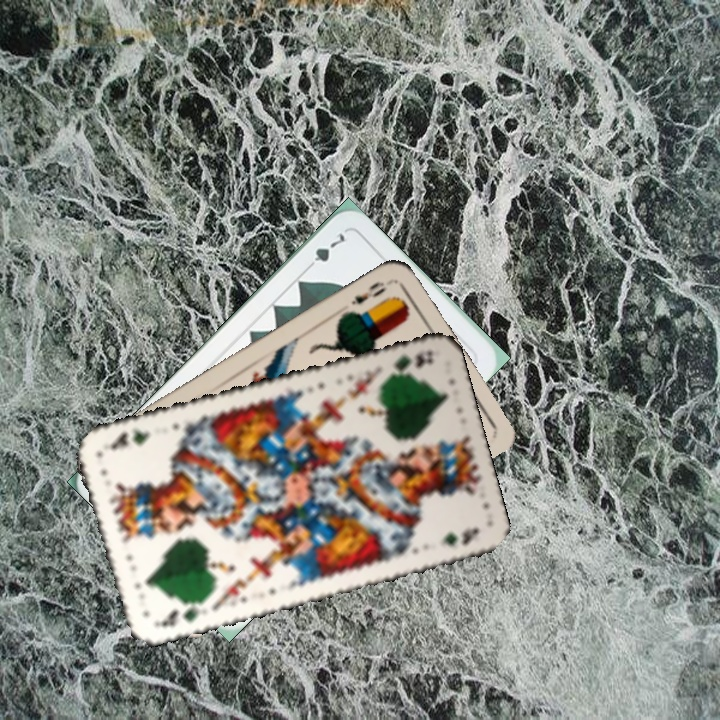EO: (346, 277, 389, 308)
G7: (300, 228, 349, 274)
GK: (381, 346, 436, 381), (149, 598, 205, 630)
